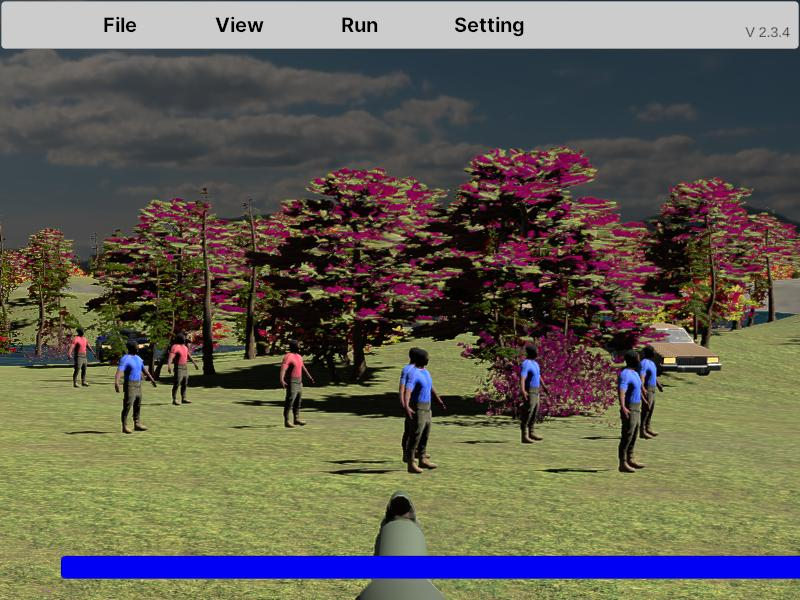Human: (407, 348, 446, 474), (618, 349, 651, 472), (115, 338, 156, 434), (282, 339, 314, 427), (522, 343, 549, 443), (168, 333, 198, 404), (640, 347, 663, 438), (70, 326, 95, 388)
car: (600, 321, 722, 376)
